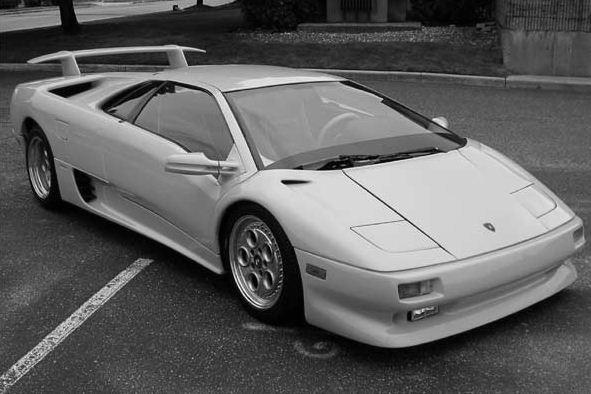car: (9, 47, 591, 353)
